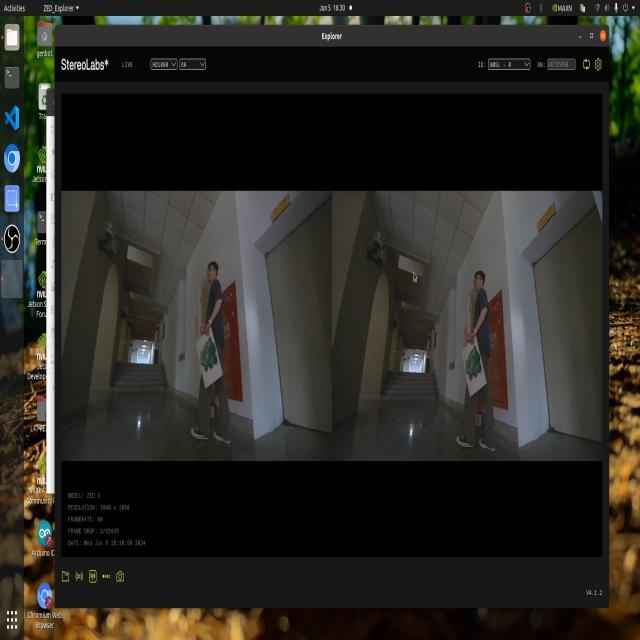green: (463, 343, 484, 391), (202, 345, 221, 372)
